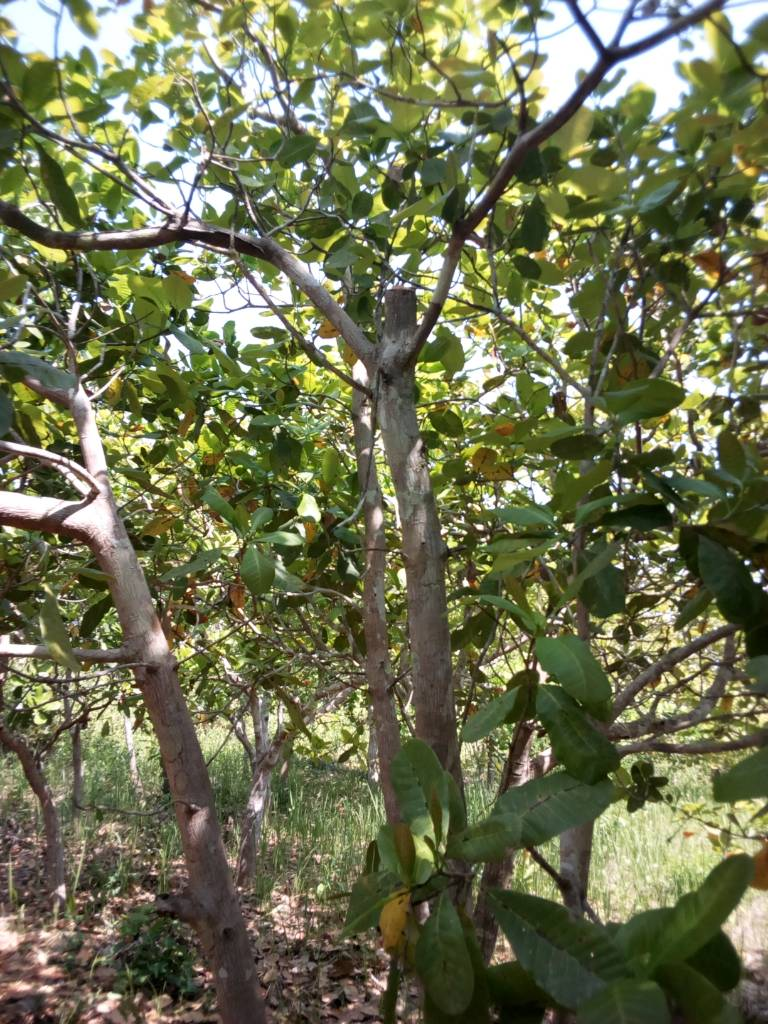Analepse trifasciata: (374, 277, 457, 332)
